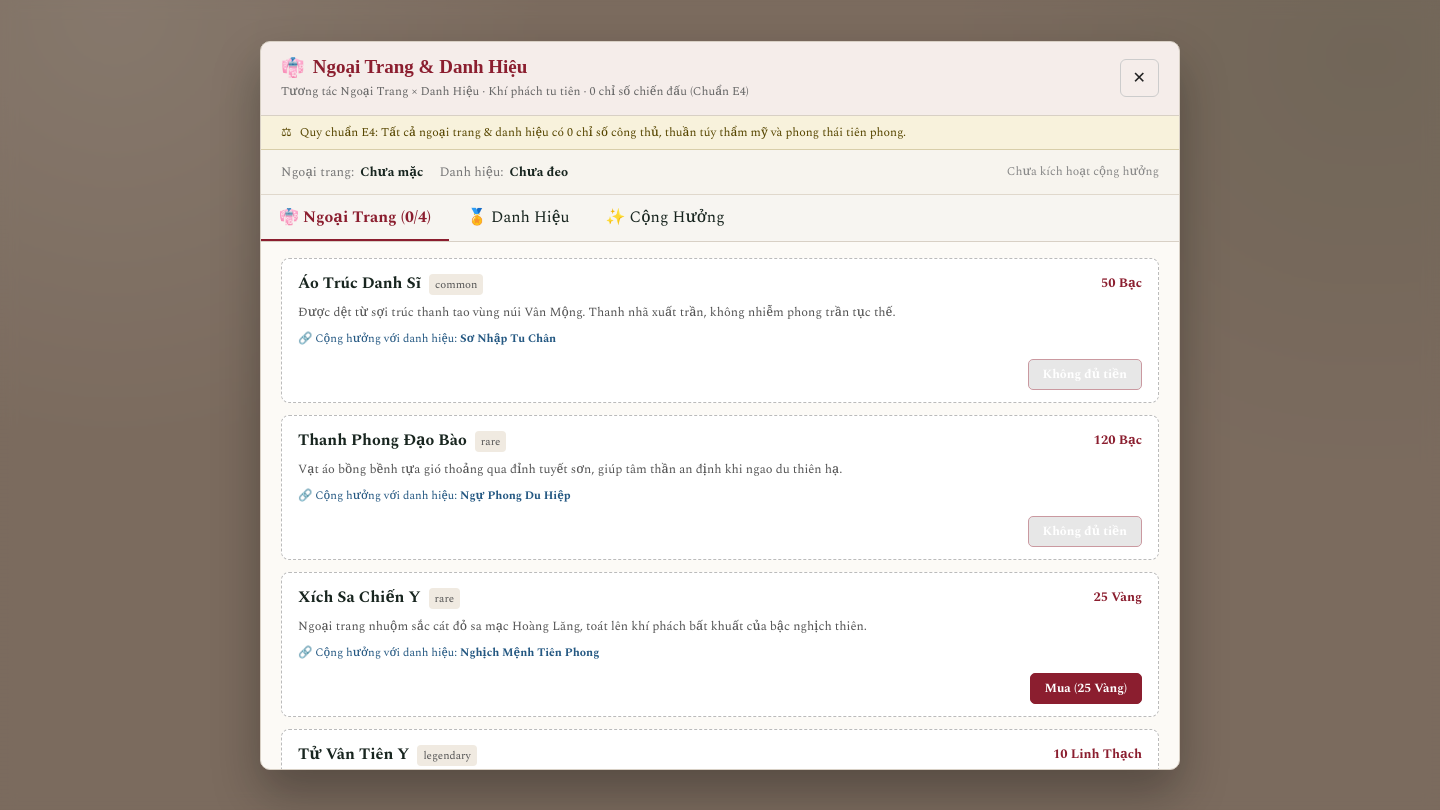
Scenario: C3-16: Outfits & Titles UI (React Component Tests) › allows switching tabs between Outfits, Titles, and Resonances
This screenshot has width=1440, height=810.
Expected: the element with test id "outfits-list" is shown, [281, 258, 1159, 768]
Switch to Titles tab
Click the button with test id "tab-titles".
click(518, 218)  # box [449, 194, 588, 240]
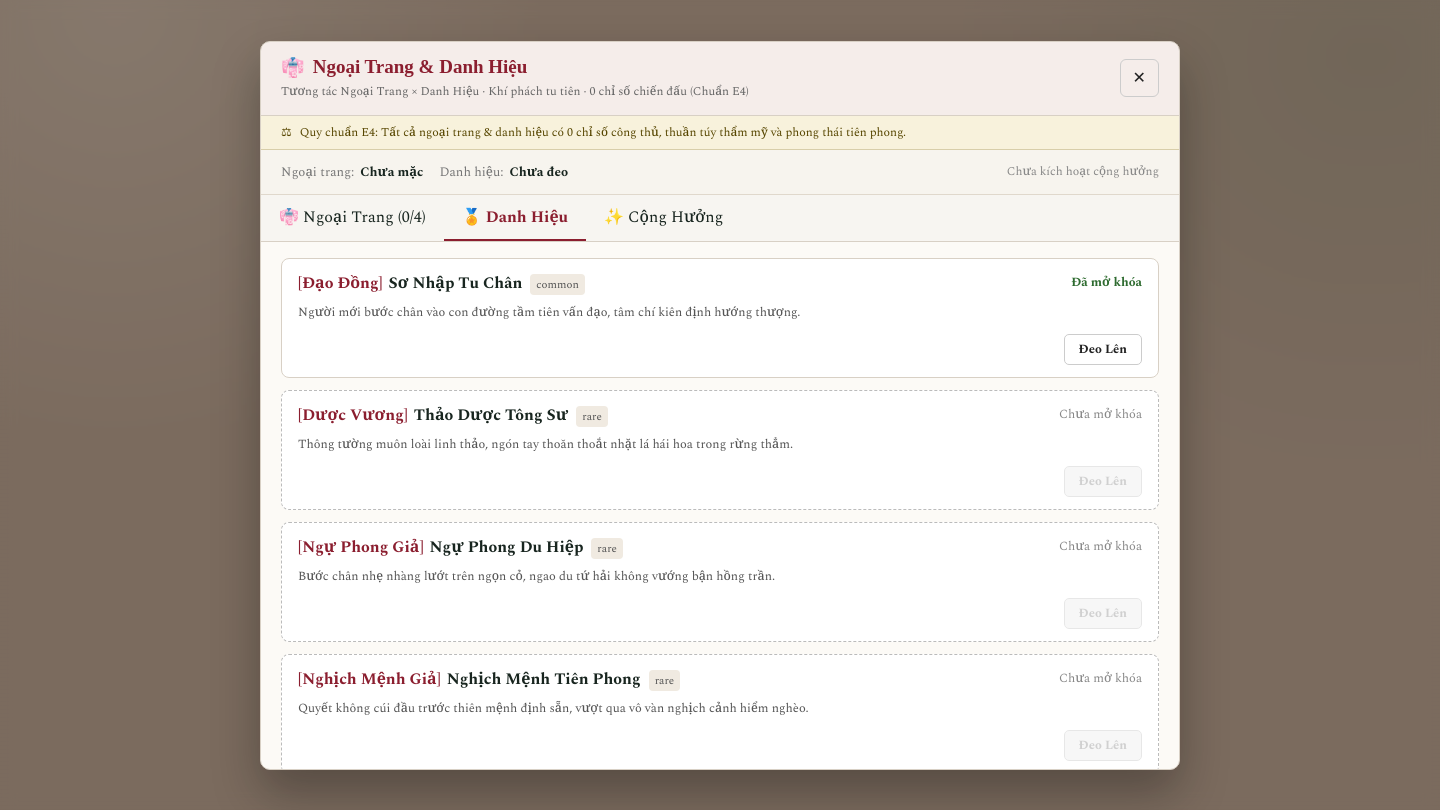
Now the element with test id "titles-list" is shown, box [281, 258, 1159, 768]
Switch to Resonance tab
Click the button with test id "tab-resonance".
click(664, 218)  # box [586, 194, 741, 240]
(page scrolled)
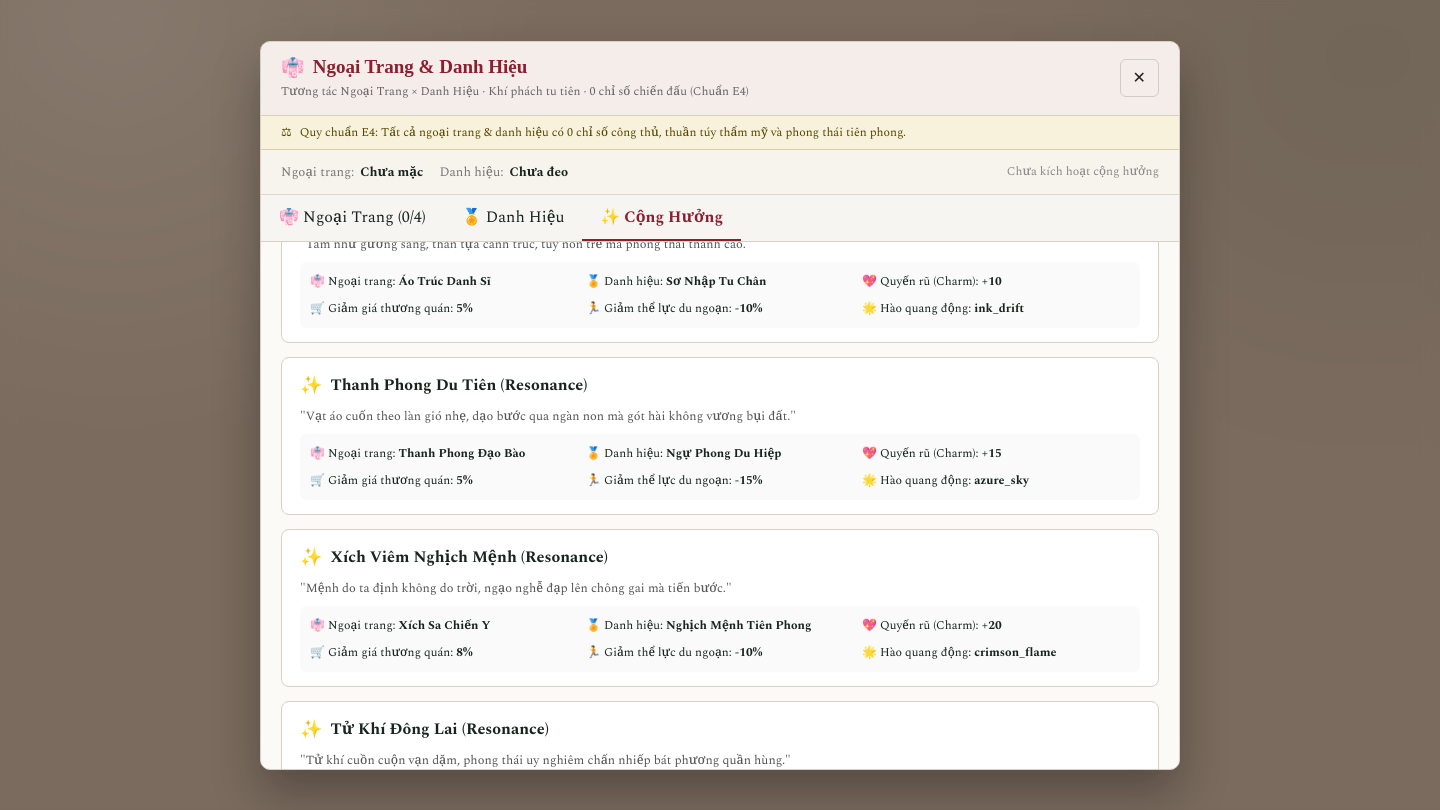
Now the element with test id "resonance-list" is shown, box [281, 242, 1159, 768]
